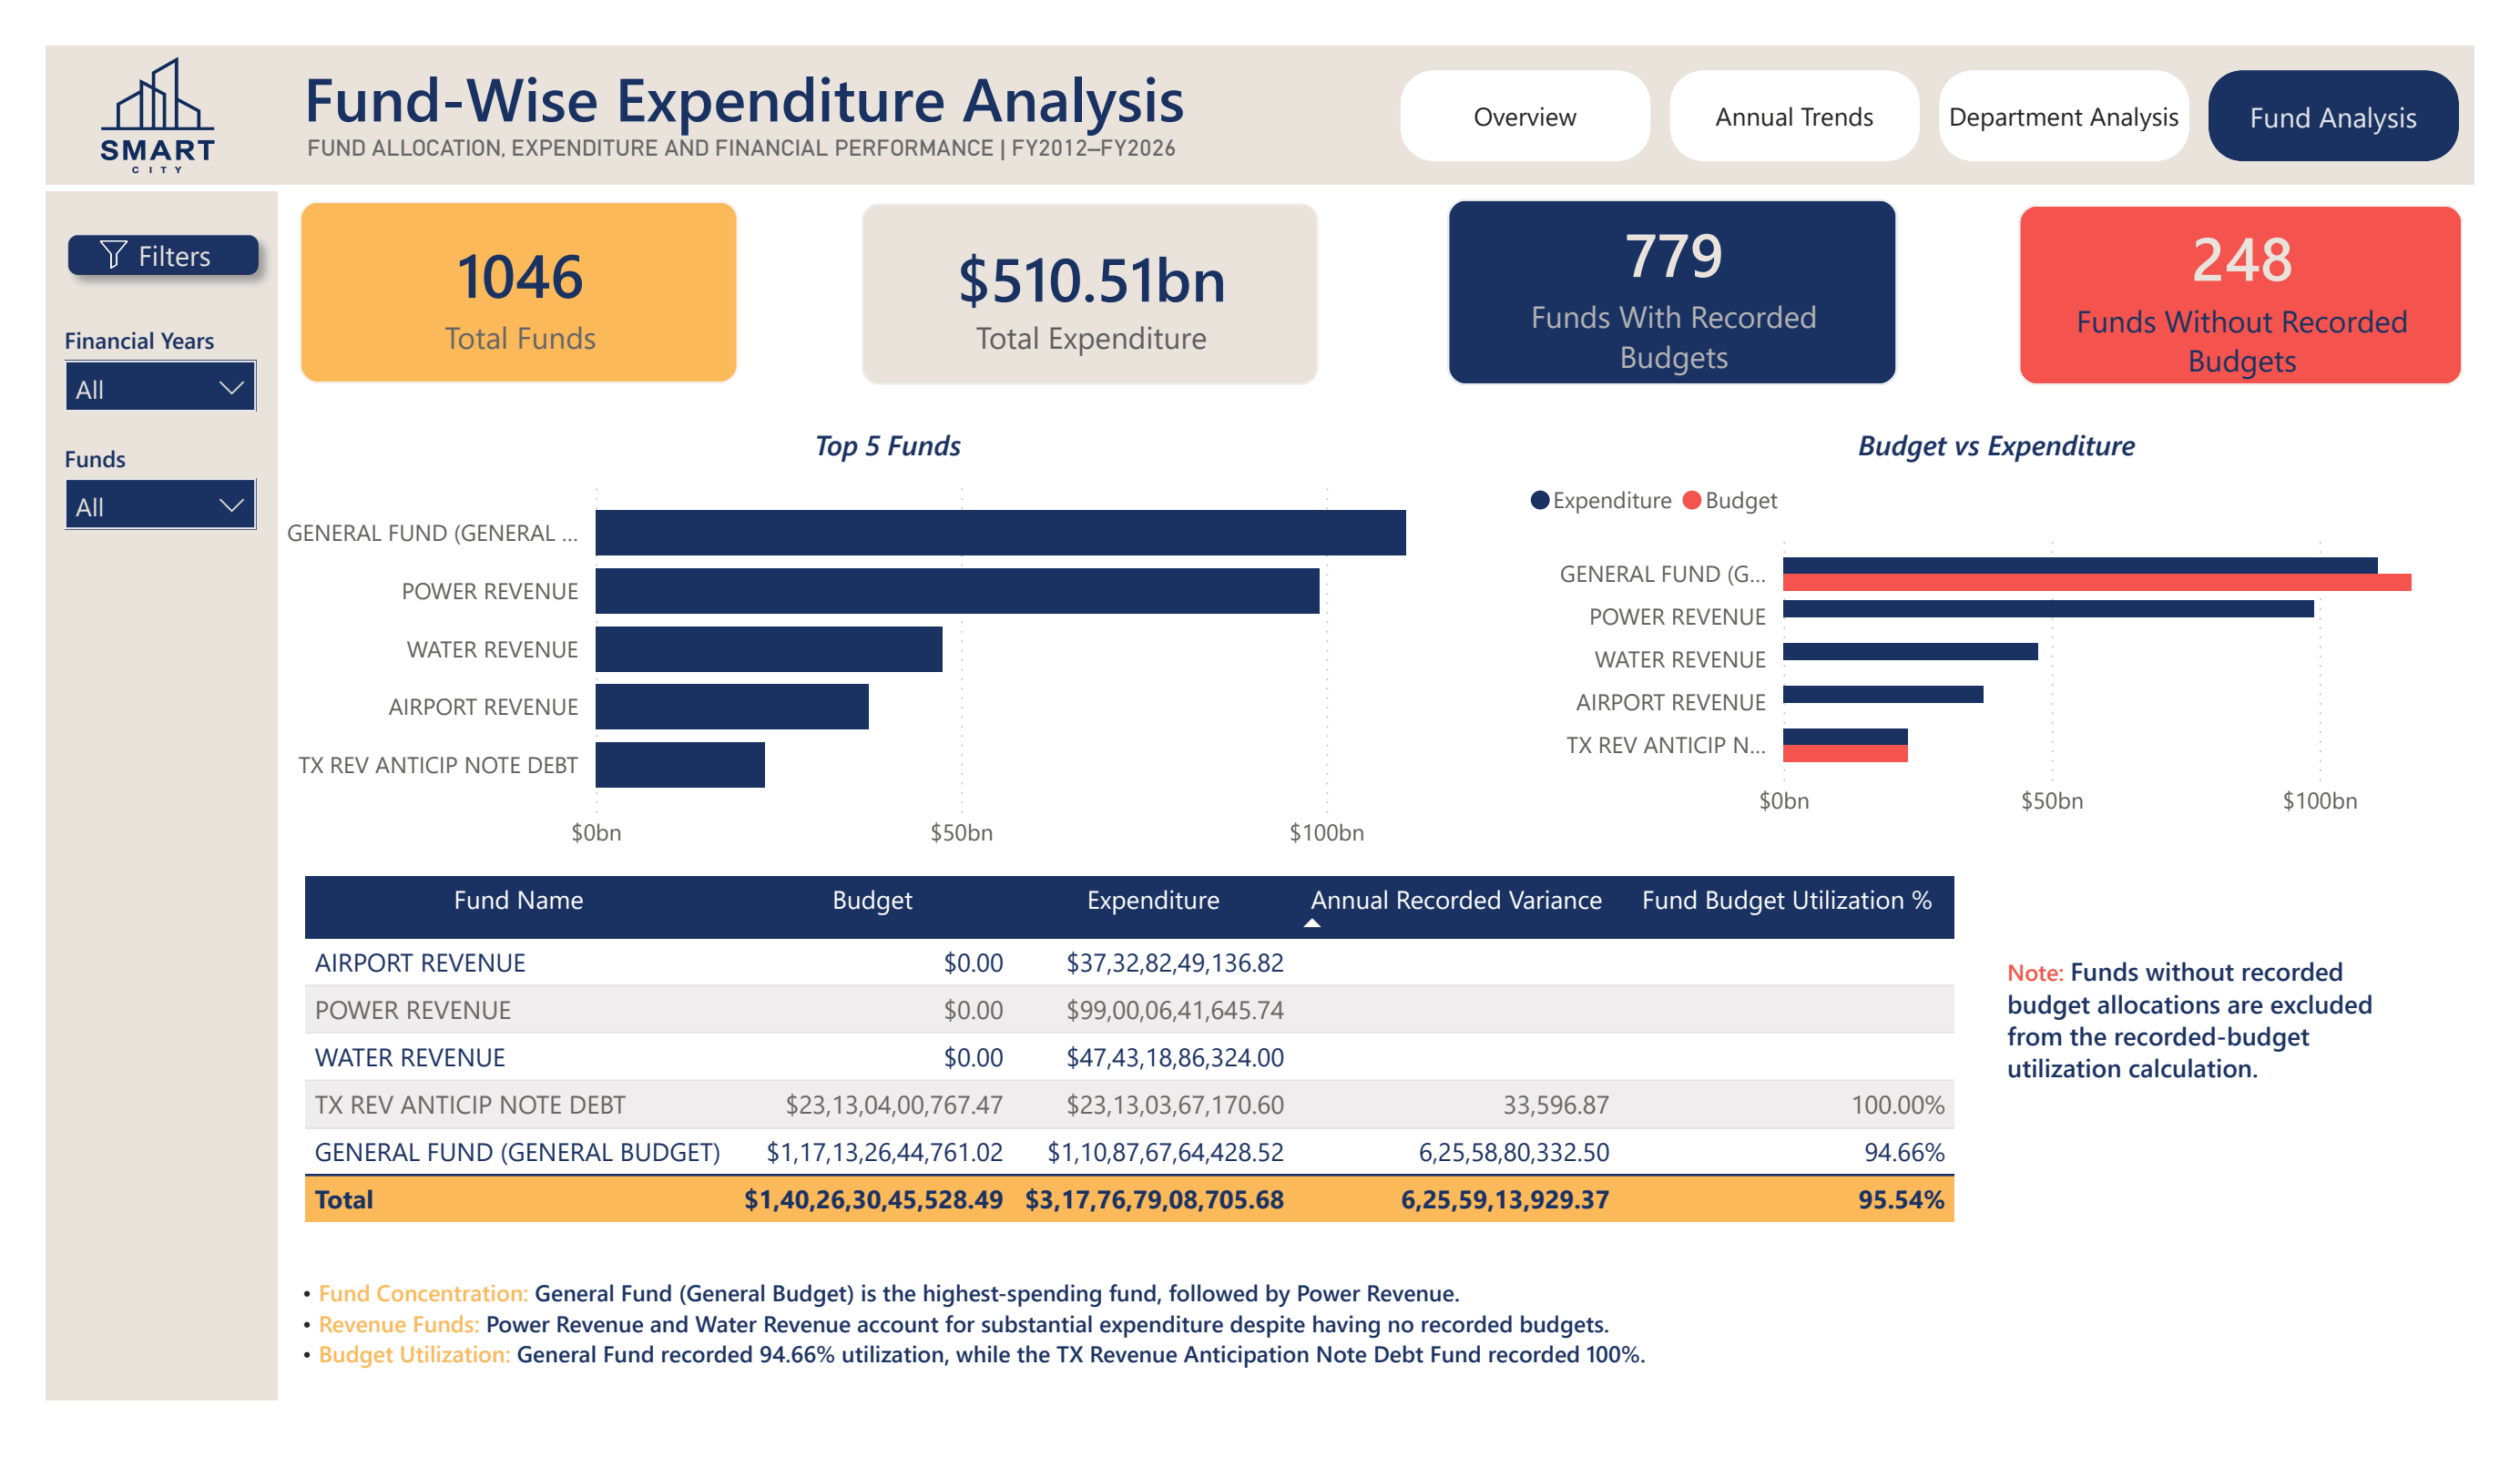

Layout of this report page (visuals, bound fields, positions):
{"tool":"powerbi","page":{"name":"Fund Analysis","canvas":[1280,720],"ordinal":3},"visuals":[{"type":"shape","box":[0,76.5,121.5,637.5],"z":0},{"type":"shape","box":[0,0,1280,72.9],"z":1000},{"type":"textbox","title":"LOS ANGELES CITY BUDGET | FY2012–FY2026","box":[131.4,0,628.6,145.7],"z":2000},{"type":"image","box":[4.3,0,107.1,72.9],"z":3000},{"type":"textbox","box":[132.9,38.6,482.9,100],"z":4000},{"type":"shape","box":[2.5,91.2,118.8,38.4],"z":5000},{"type":"image","box":[27.9,98.4,15.8,24.2],"z":6000},{"type":"textbox","box":[43.6,95,87.7,38.2],"z":7000},{"type":"slicer","fields":{"Values":["Dim_FiscalYear.Fiscal Year"]},"box":[0,156.4,120.9,43.6],"z":8000},{"type":"textbox","box":[4.5,141,133.5,30],"z":9000},{"type":"slicer","fields":{"Values":["Dim_Fund.Fund Name"]},"box":[0,217.8,121.1,70],"z":10000},{"type":"textbox","box":[4.7,202.7,133.3,30],"z":11000},{"type":"cardVisual","fields":{"Data":["Measures (2).Annual Fund Expenditure"]},"box":[430,82.9,241.4,95.7],"z":12000},{"type":"cardVisual","fields":{"Data":["Measures (2).Total Funds"]},"box":[132.9,81.4,232.9,97.1],"z":13000},{"type":"cardVisual","fields":{"Data":["Measures (2).Funds With Recorded Budgets"]},"box":[738.6,81.4,237.1,97.1],"z":14000},{"type":"cardVisual","fields":{"Data":["Measures (2).Funds Without Recorded Budgets"]},"box":[1040,84.3,234.3,94.3],"z":15000},{"type":"clusteredBarChart","title":"Top 5 Funds","fields":{"Category":["Dim_Fund.Fund Name"],"Y":["Measures (2).Annual Fund Expenditure"]},"box":[111.4,200,665.7,232.9],"z":16000},{"type":"textbox","box":[139,395,639,106],"z":17000},{"type":"textbox","box":[1028.6,474.3,221.4,98.6],"z":18000},{"type":"clusteredBarChart","title":"Budget vs Expenditure","fields":{"Category":["Dim_Fund.Fund Name"],"Y":["Measures (2).Annual Fund Expenditure","Measures (2).Annual Fund Budget"]},"box":[777.1,200,502.9,215.7],"z":19000},{"type":"tableEx","fields":{"Values":["Dim_Fund.Fund Name","Measures (2).Annual Fund Budget","Measures (2).Annual Fund Expenditure","Measures (2).Annual Fund Recorded Variance","Measures (2).Fund Budget Utilization %"]},"box":[131,433,886,197],"z":20000},{"type":"textbox","box":[121.4,644.3,1158.6,75.7],"z":21000},{"type":"pageNavigator","box":[714.3,12.9,560,48.6],"z":22001}]}

Visuals, with their boxes on the page's 1280x720 design canvas (x1, y1, x2, y2). These are canvas units, not pixel positions in the 2520x1457 screenshot, which may show the page scaled, cropped or inside an application window:
shape: 0/76/122/714
shape: 0/0/1280/73
"LOS ANGELES CITY BUDGET | FY2012–FY2026" textbox: 131/0/760/146
image: 4/0/111/73
textbox: 133/39/616/139
shape: 2/91/121/130
image: 28/98/44/123
textbox: 44/95/131/133
slicer - Dim_FiscalYear.Fiscal Year: 0/156/121/200
textbox: 4/141/138/171
slicer - Dim_Fund.Fund Name: 0/218/121/288
textbox: 5/203/138/233
cardVisual - Measures (2).Annual Fund Expenditure: 430/83/671/179
cardVisual - Measures (2).Total Funds: 133/81/366/178
cardVisual - Measures (2).Funds With Recorded Budgets: 739/81/976/178
cardVisual - Measures (2).Funds Without Recorded Budgets: 1040/84/1274/179
"Top 5 Funds" clusteredBarChart: 111/200/777/433
textbox: 139/395/778/501
textbox: 1029/474/1250/573
"Budget vs Expenditure" clusteredBarChart: 777/200/1280/416
tableEx - Dim_Fund.Fund Name x Measures (2).Annual Fund Budget: 131/433/1017/630
textbox: 121/644/1280/720
pageNavigator: 714/13/1274/62
